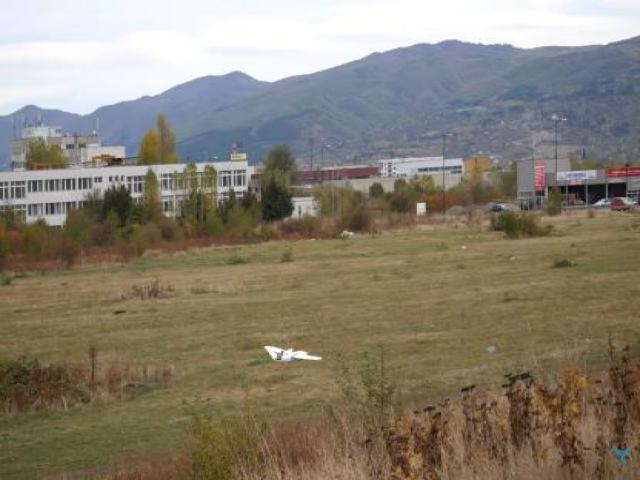uav: (258, 334, 327, 371)
